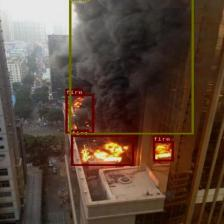fire: (71, 135, 133, 165), (65, 94, 94, 133), (153, 141, 173, 161)
smoke: (69, 0, 193, 134)
